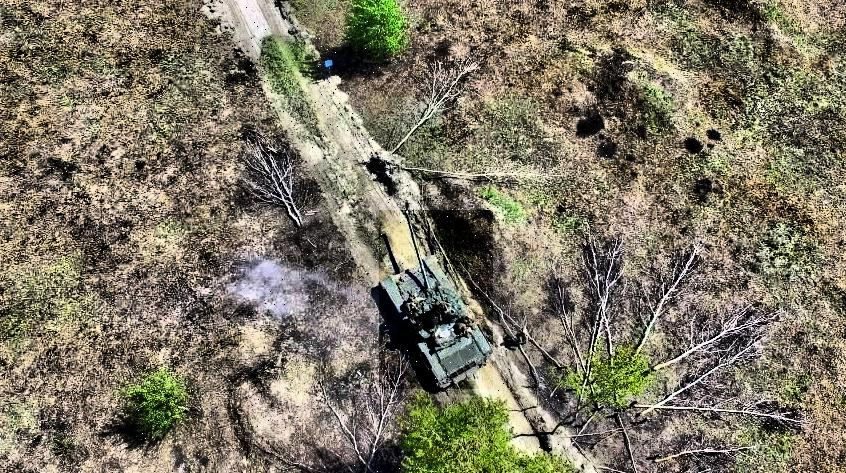military-vehicle: (379, 211, 493, 390)
